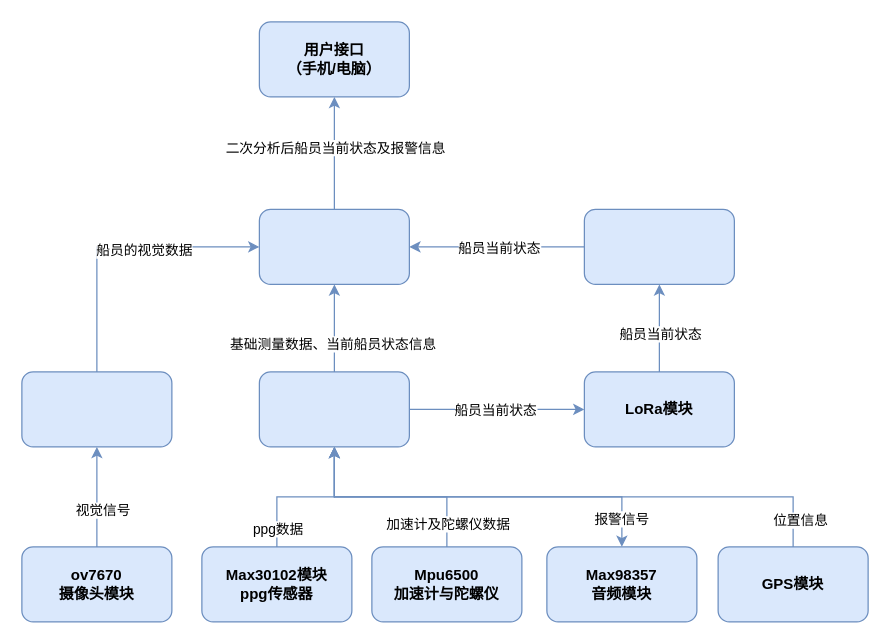
The diagram is 890 pixels wide and 644 high, and some of its shapes have lost their labels. The centre of each missing label's shape, as x and y in pixels:
Esp32-cam: (x=96, y=409)
ESP32主控芯片: (x=333, y=409)
本地LoRa模块: (x=658, y=246)
本地服务器 泰山派RK5566: (x=333, y=246)
